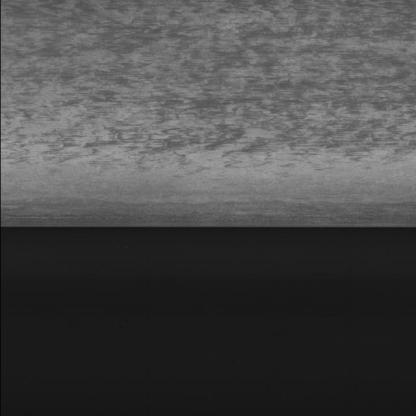silk_spot: (8, 0, 400, 183)
